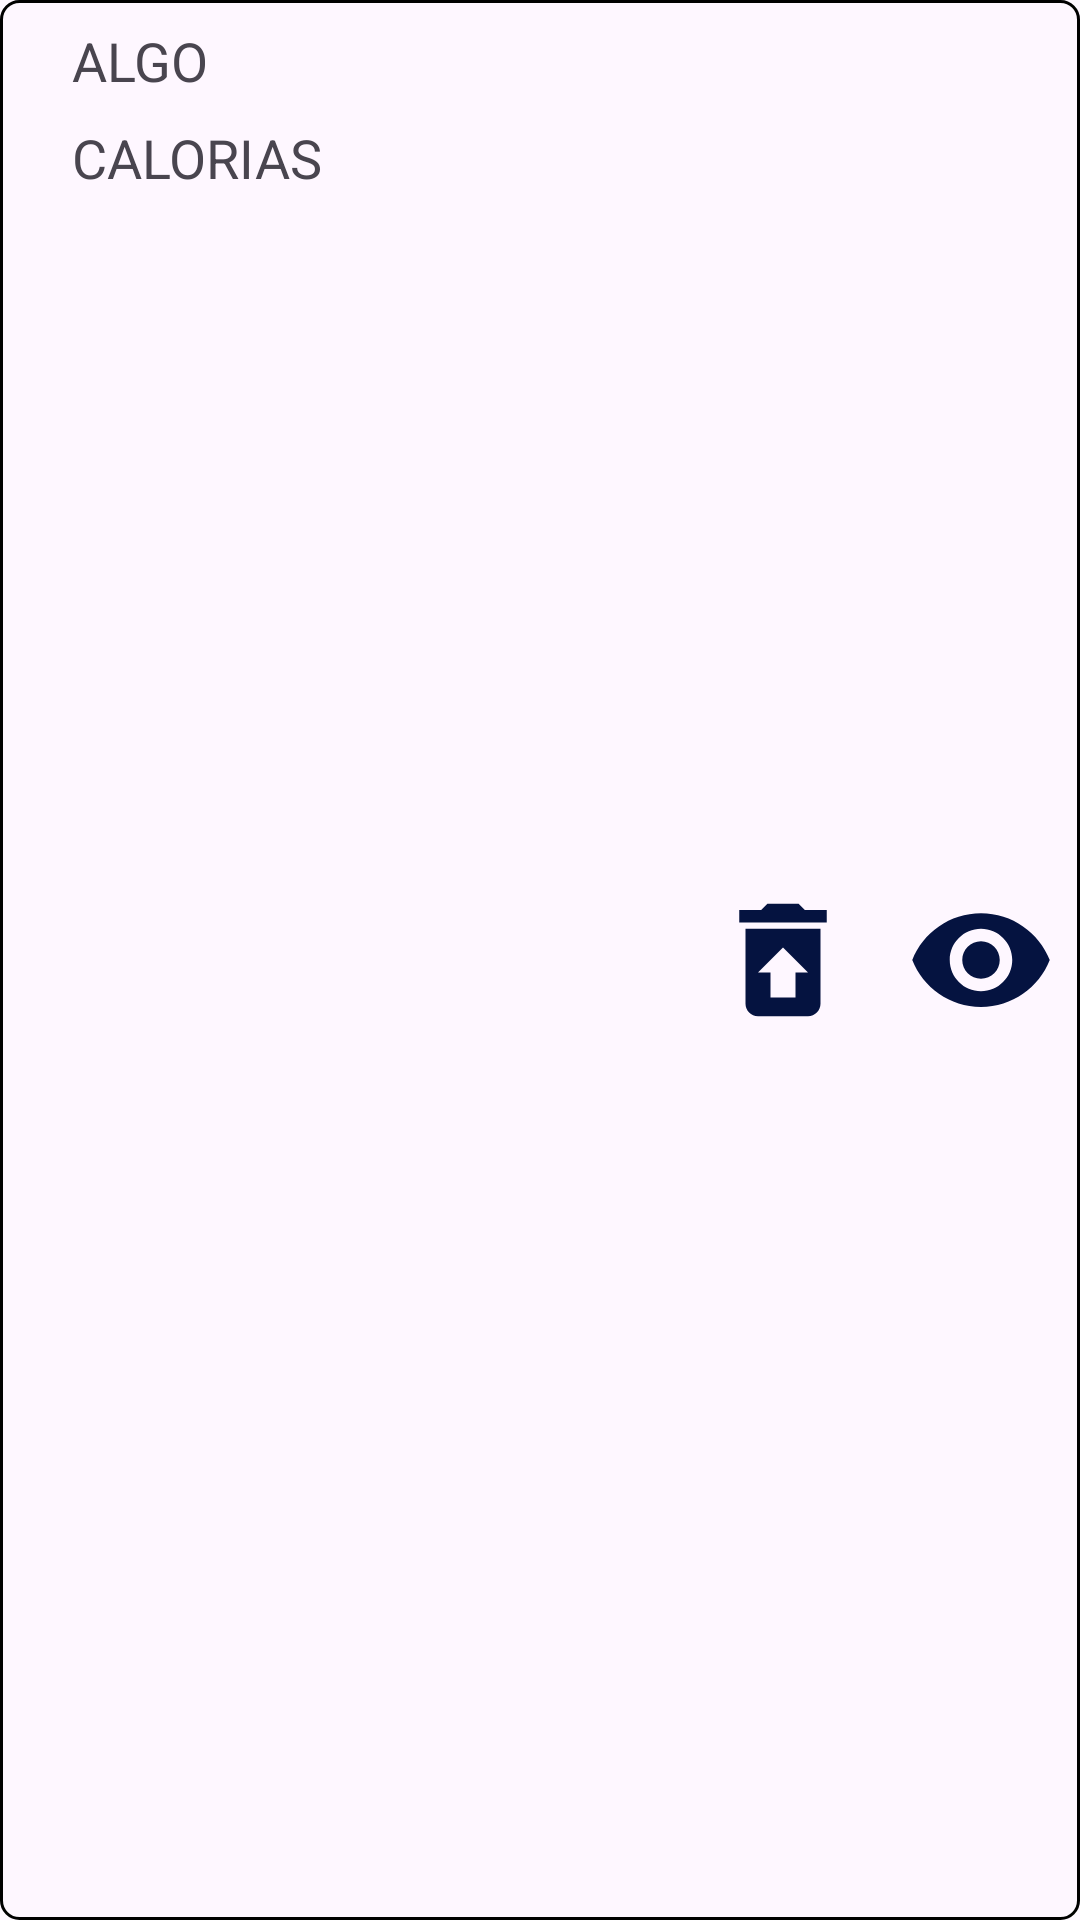

Point at icon controls on the screen. Image size 1080×1920, points as (x=x, y=y).
restore from trash: (x=783, y=960)
